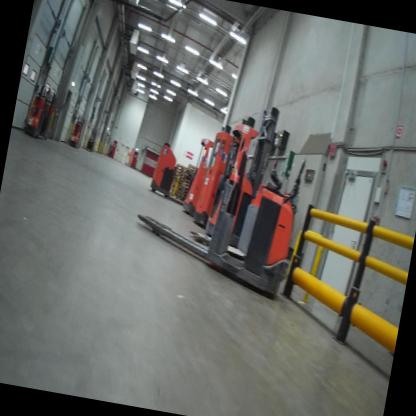forklift: (198, 91, 291, 250), (193, 123, 246, 229), (178, 128, 221, 228)
pallet_truck: (124, 116, 316, 308), (146, 134, 197, 206), (18, 77, 64, 144), (66, 111, 89, 153), (81, 121, 99, 154)
